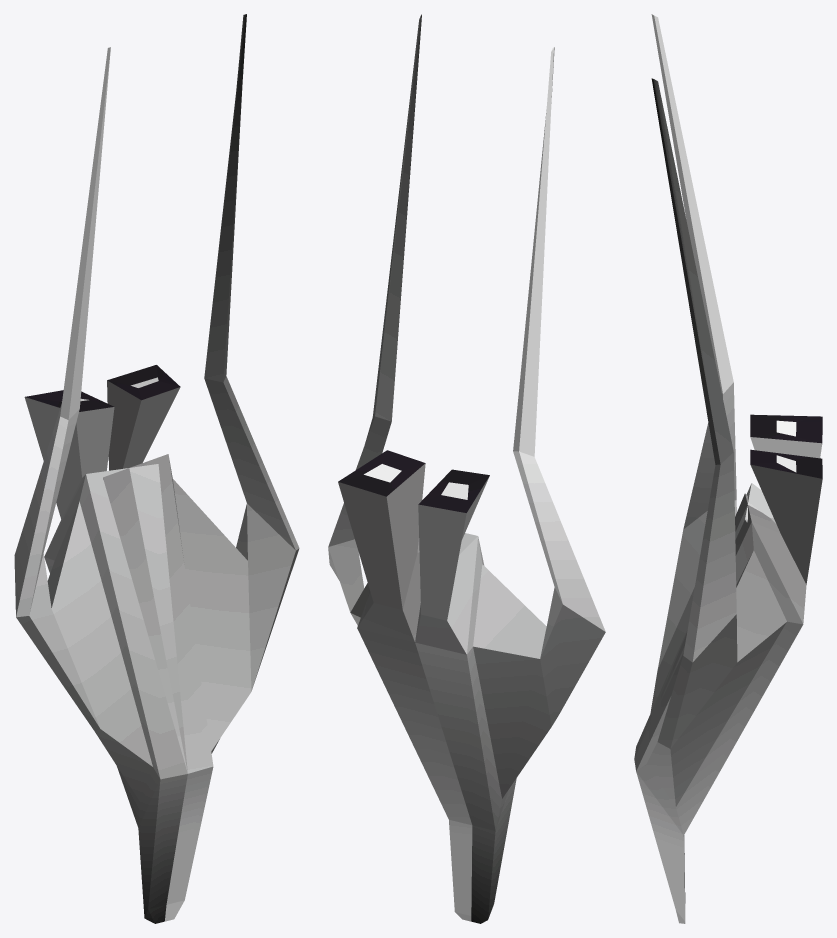
Rendered from Zombie.fbx.
3 views of the same model, side by side, from view 1: azimuth 30°, elevation 25°; view 2: azimuth 150°, elevation 25°; view 3: azimuth 270°, elevation 25° (orthographic). The views are drawn at different scales.
Visible parts, largest first — view 1: ZombieMesh; view 2: ZombieMesh; view 3: ZombieMesh.
Part boxes in pixels (x1,y1,x2,y2): ZombieMesh: (14, 14, 299, 923); ZombieMesh: (328, 14, 605, 923); ZombieMesh: (634, 14, 822, 923).
Size of the model in its own units: 305 by 928 by 181.
